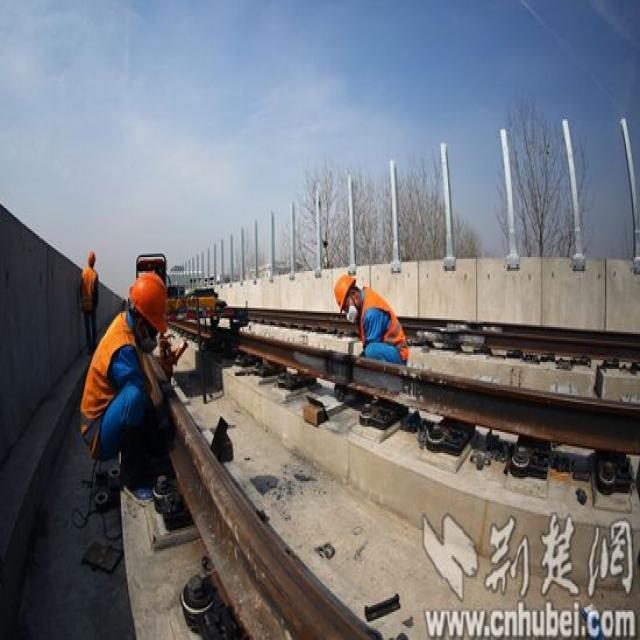helmet: (125, 267, 177, 327), (331, 269, 357, 313), (85, 249, 98, 261)
vest: (81, 306, 145, 467), (355, 286, 417, 359), (81, 259, 99, 313)
